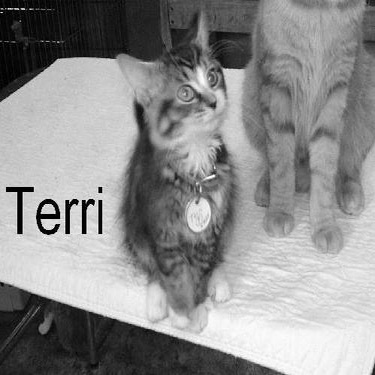cat: (103, 37, 249, 330), (240, 1, 370, 259)
